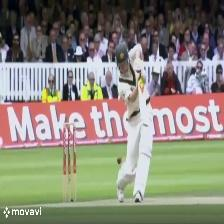ball: (115, 155, 129, 167)
batsman: (114, 39, 156, 204)
